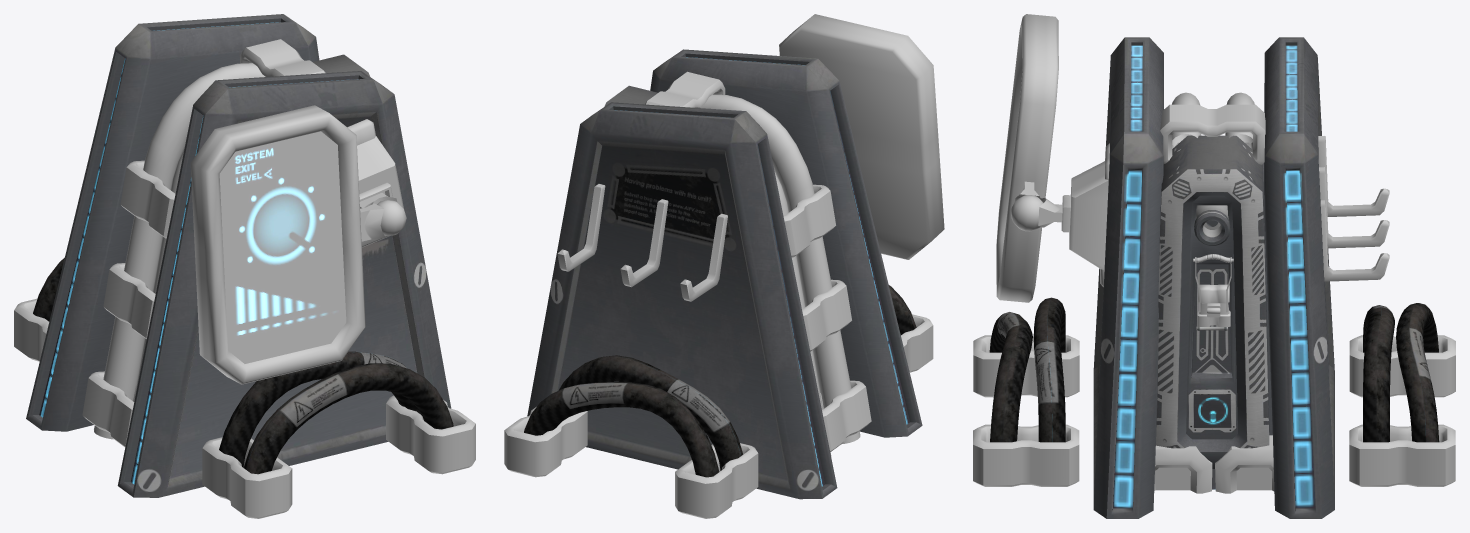
The model's file is sifi2.fbx.
3 views of the same model, side by side, from view 1: azimuth 30°, elevation 25°; view 2: azimuth 150°, elevation 25°; view 3: azimuth 270°, elevation 25° (orthographic). The views are drawn at different scales.
Parts seen in each view (by area): view 1: body_low, pivotscreen_low, wireport_low; view 2: body_low, pivotscreen_low, wireport_low; view 3: body_low, pivotscreen_low, wireport_low.
Boxes of the visible parts, <box> form: body_low: <box>26,14,453,497</box>; pivotscreen_low: <box>14,39,475,518</box>; wireport_low: <box>312,54,370,76</box>; body_low: <box>524,49,922,499</box>; pivotscreen_low: <box>504,14,944,518</box>; wireport_low: <box>604,85,657,106</box>; body_low: <box>989,37,1439,518</box>; pivotscreen_low: <box>973,14,1455,493</box>; wireport_low: <box>1156,135,1269,468</box>.
Bounding box in the file's own units: 6873 × 7735 × 8995.
